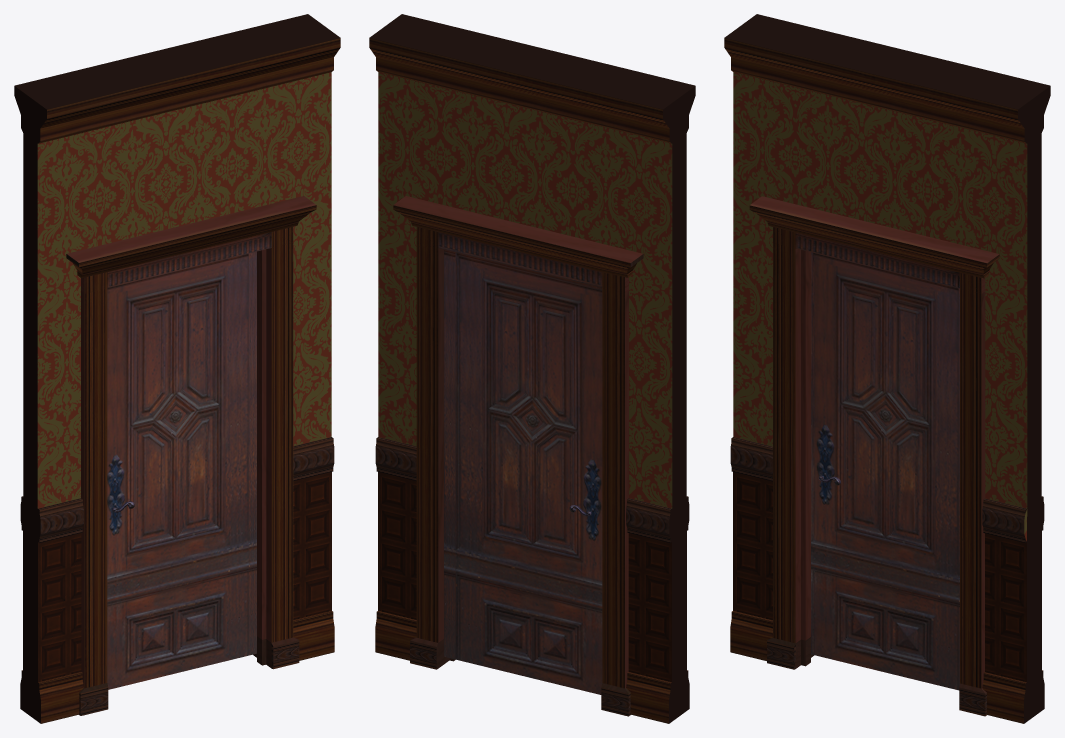
Rendered from Door_Single.fbx.
3 renders of one model, left to right at view 1: azimuth 30°, elevation 25°; view 2: azimuth 150°, elevation 25°; view 3: azimuth 330°, elevation 25°, orthographic.
Parts seen in each view (by area): view 1: Sphere, Sphere.002; view 2: Sphere, Sphere.002; view 3: Sphere, Sphere.002.
Part boxes in pixels (x1,y1,x2,y2): Sphere: (14, 14, 340, 723); Sphere.002: (107, 251, 256, 689); Sphere: (369, 14, 695, 723); Sphere.002: (444, 249, 602, 694); Sphere: (724, 14, 1050, 723); Sphere.002: (811, 252, 959, 690).
Bounding box in the file's own units: 185 × 372 × 43.04.
